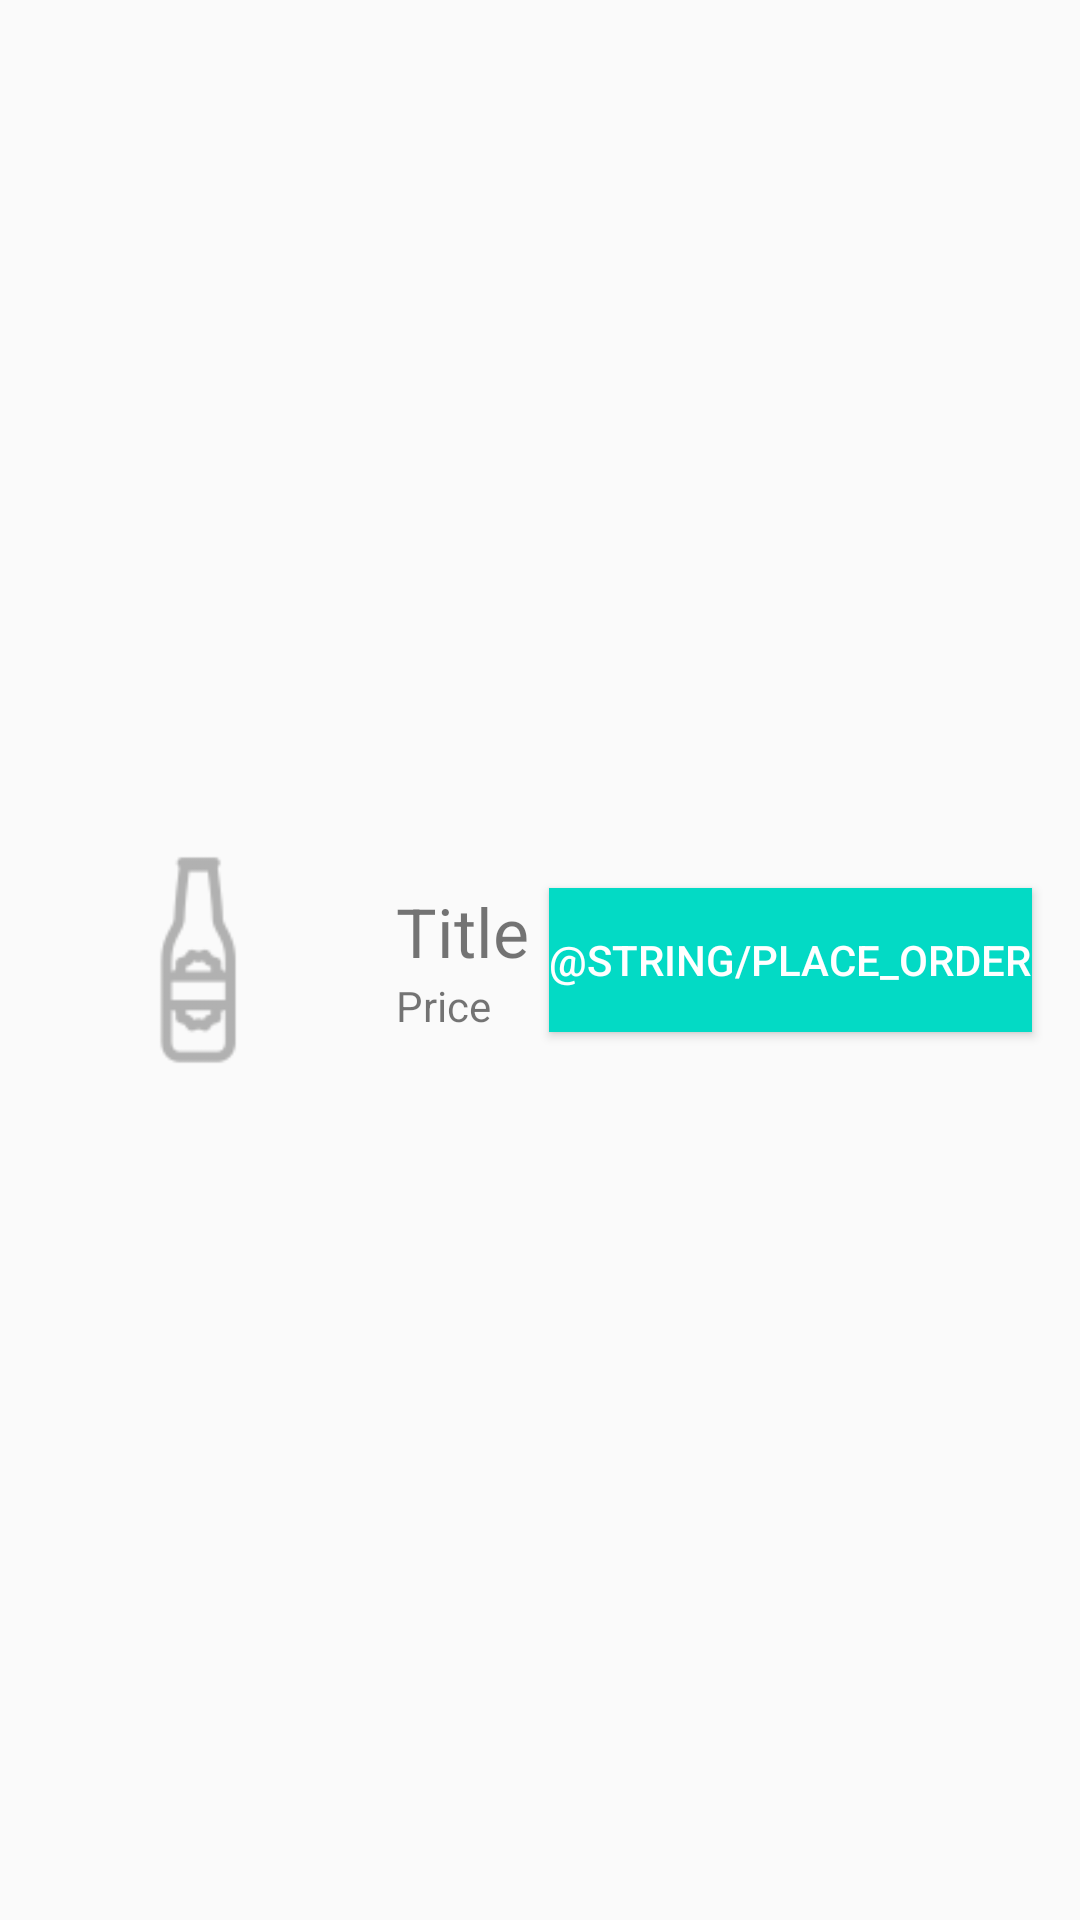

Screen size 1080w x 1920h. Icon name, then its center in pixels as point (x, y):
drink: point (198, 960)
